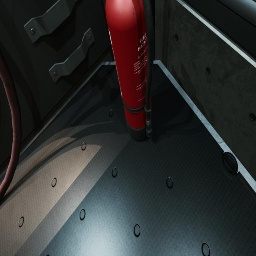FireExtinguisher ]: (105, 0, 154, 141)
